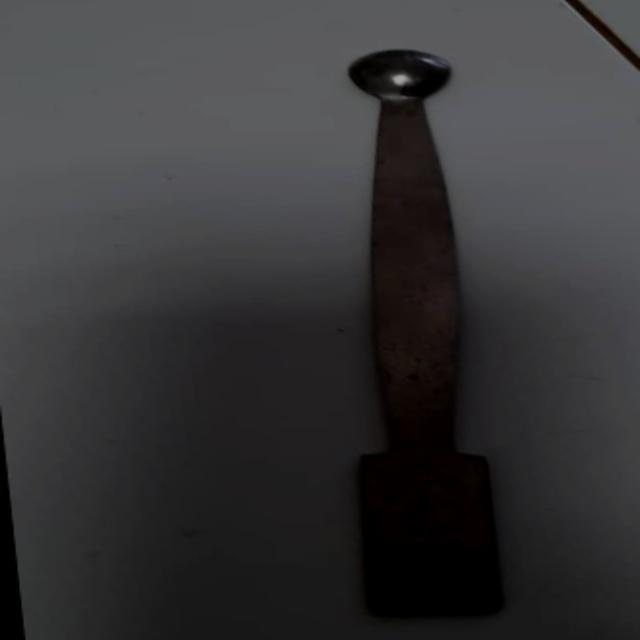Spatula: (294, 41, 536, 628)
